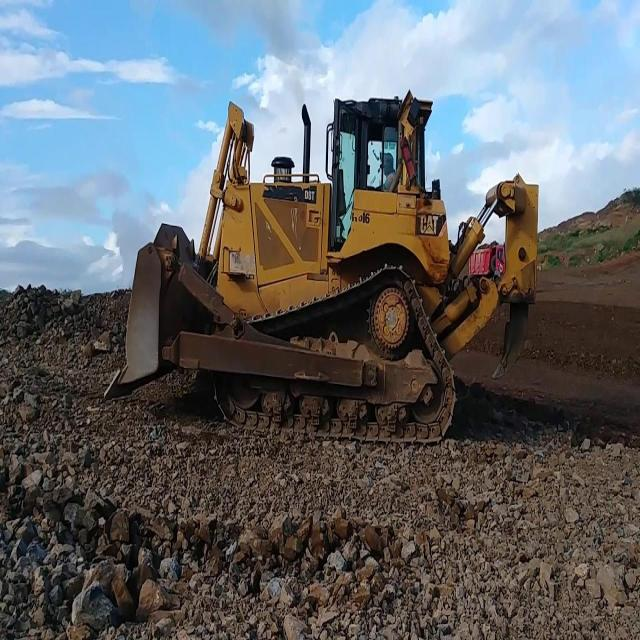buldozerpayloadergrader: (82, 26, 558, 473)
